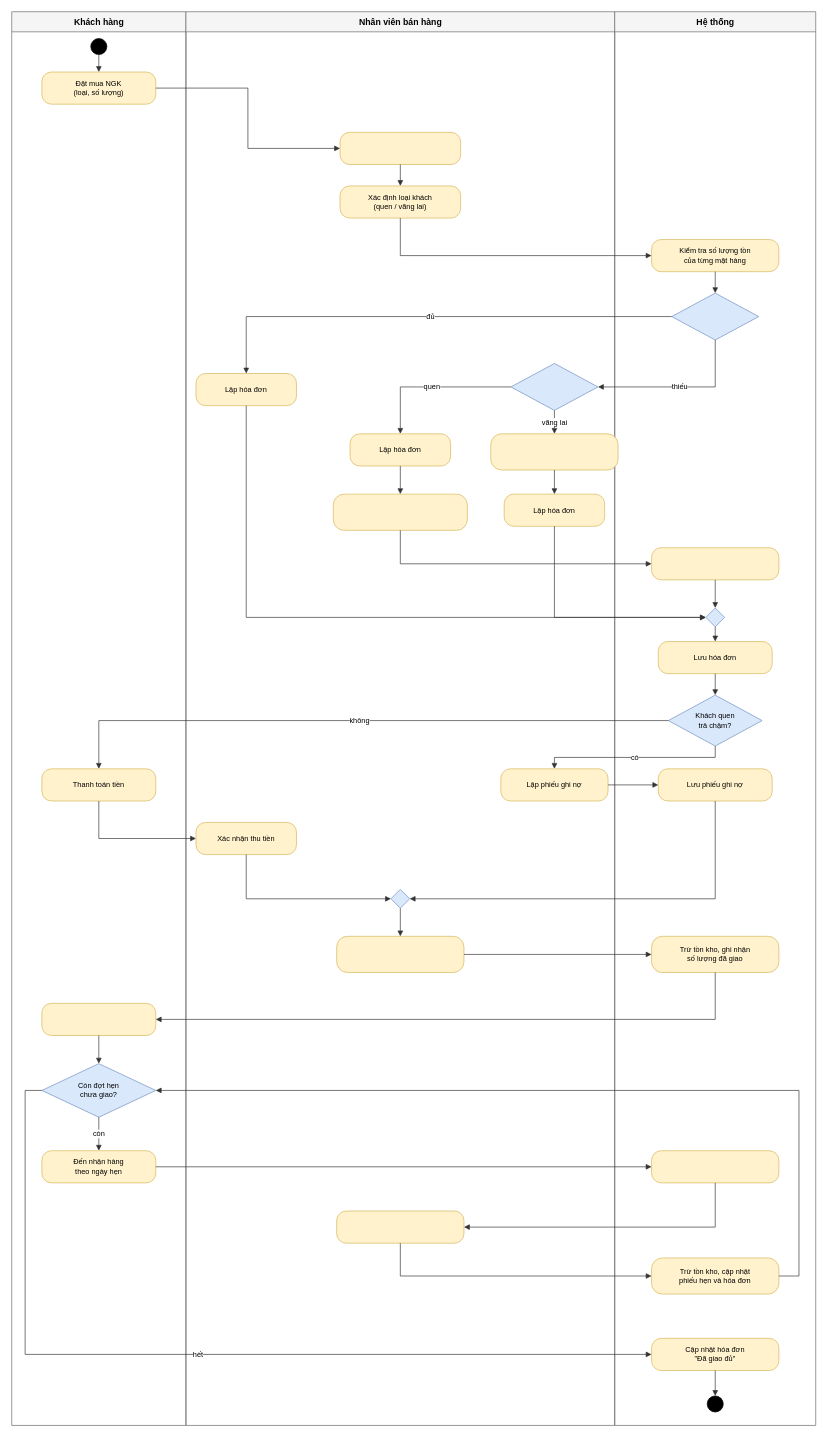
Image size: 827x1437. Some labels were removed from this diagram. Here are the shapes that lost their labels. From the top down, the centre of each, then its label:
[400,148]: Tiếp nhận yêu cầu mua
[715,316]: Đủ hàng?
[554,386]: Khách quen?
[554,451]: Thông báo thiếu hàng, điều chỉnh SL theo tồn kho
[400,511]: Lập phiếu hẹn giao phần còn thiếu (ngày hẹn, SL từng đợt)
[715,563]: Lưu phiếu hẹn giao hàng
[400,954]: Giao hàng ngay (phần hiện có trong kho)
[98,1019]: Nhận hàng
[715,1166]: Kiểm tra tồn kho theo phiếu hẹn
[400,1226]: Giao hàng theo phiếu hẹn
